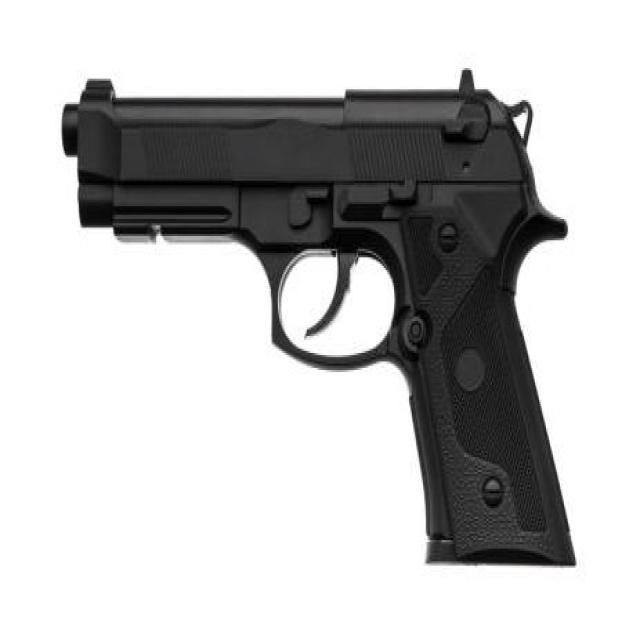pistol: (60, 59, 587, 577)
